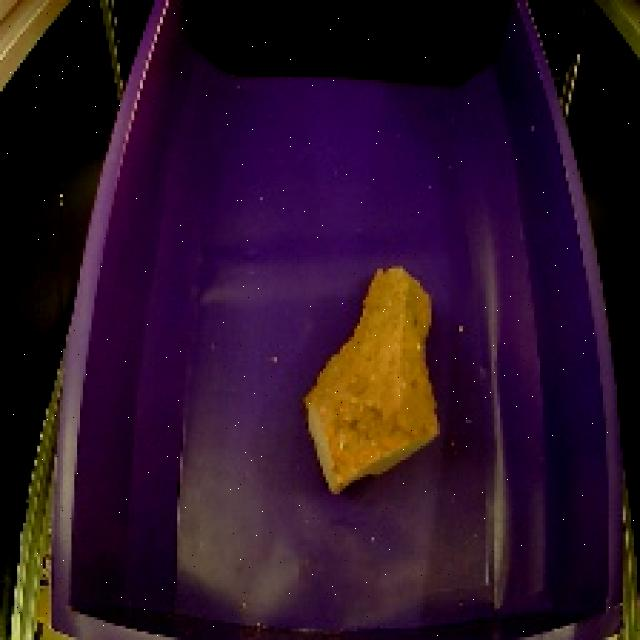brick: (296, 259, 448, 502)
